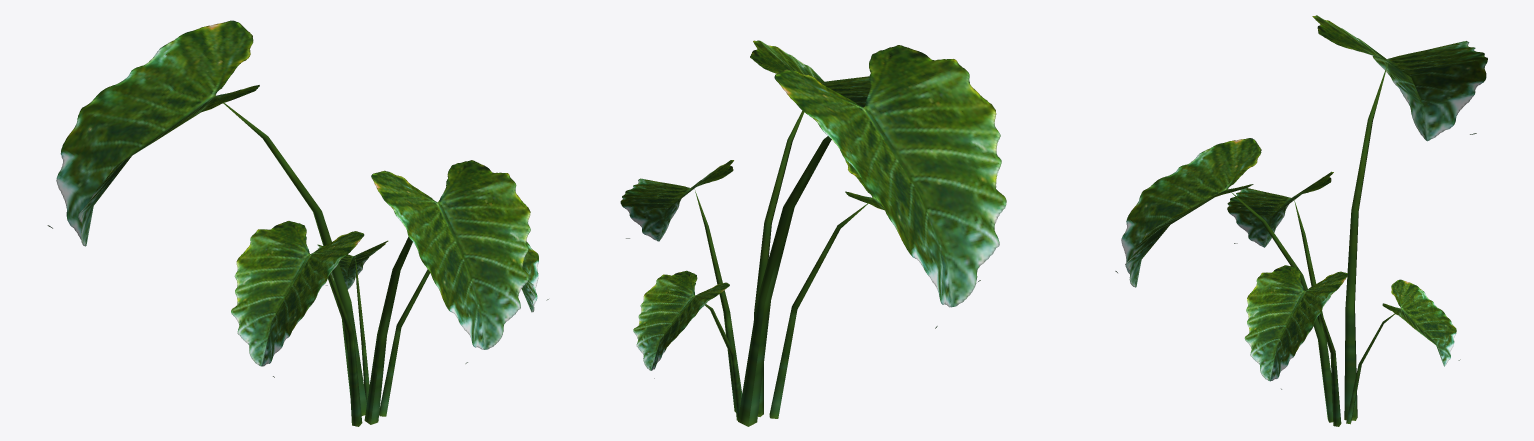
Rendered from m_grass02.fbx.
3 renders of one model, left to right at view 1: azimuth 30°, elevation 25°; view 2: azimuth 150°, elevation 25°; view 3: azimuth 270°, elevation 25°, orthographic. The views are drawn at different scales.
Parts seen in each view (by area): view 1: m_grass02; view 2: m_grass02; view 3: m_grass02.
Part boxes in pixels (left/top/right/bottom): m_grass02: left=47, top=20, right=548, bottom=426; m_grass02: left=620, top=40, right=1006, bottom=426; m_grass02: left=1115, top=15, right=1487, bottom=426.
Bounding box in the file's own units: 2 × 1.53 × 1.7.
